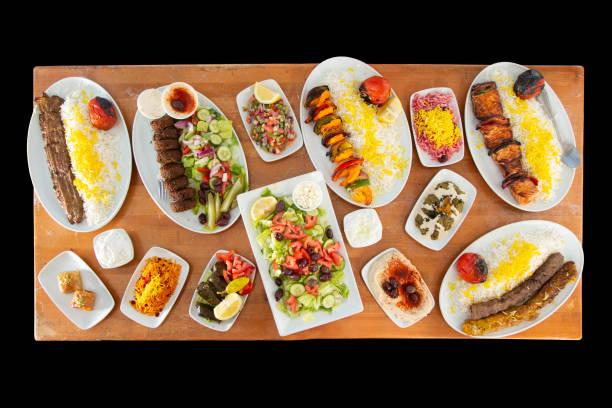Braised Crucian Carp: (235, 171, 362, 336), (439, 219, 583, 339), (299, 57, 412, 208), (464, 62, 578, 211), (132, 86, 246, 233), (25, 76, 130, 232)
